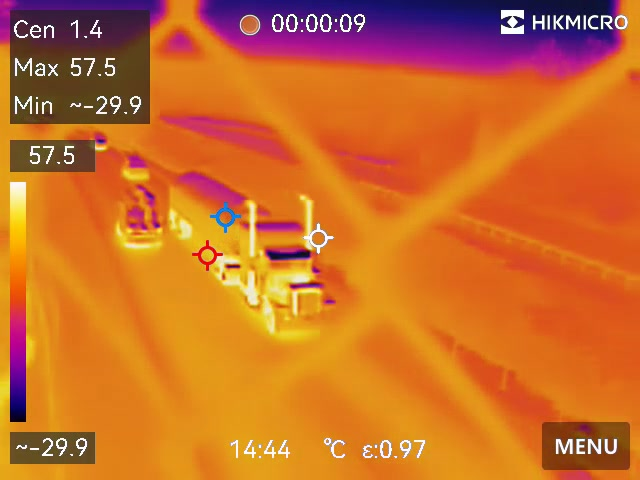heavyTruck: (165, 167, 337, 335)
vehicle: (117, 182, 161, 255), (119, 147, 150, 184)
